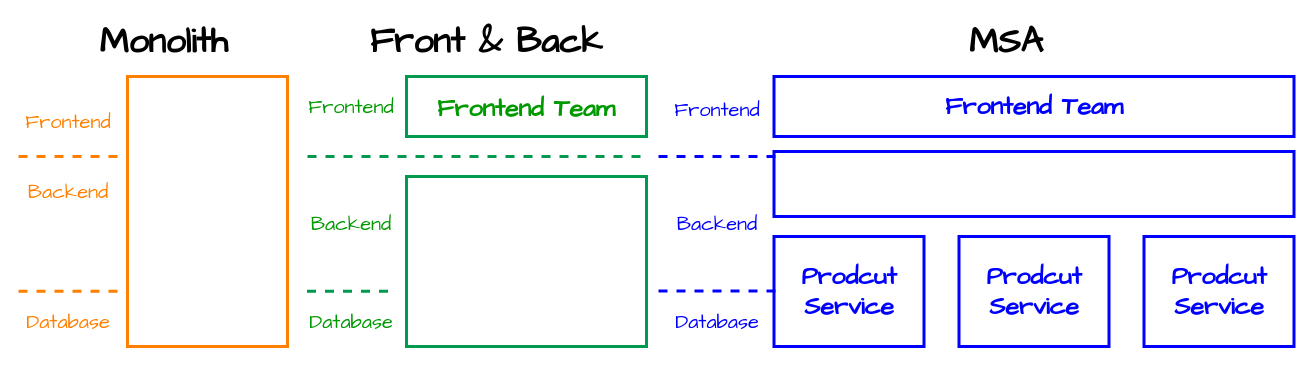
Some shapes in this 1313 by 365 pixel diagram are drawn without their labels. Here are the shapes that lost their labels. From the top down, the centre of each, then its label:
At [1033,184]: "Aggregation Layer(e.g BFF, GraphQL...)".
At [207,211]: "The Shop Team".
At [526,261]: "Backend / DevOps Team".
